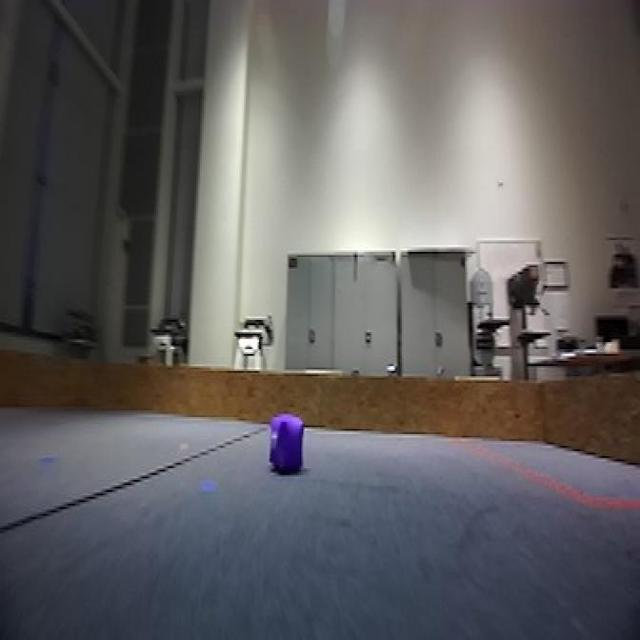frc_cube: (268, 415, 306, 480)
